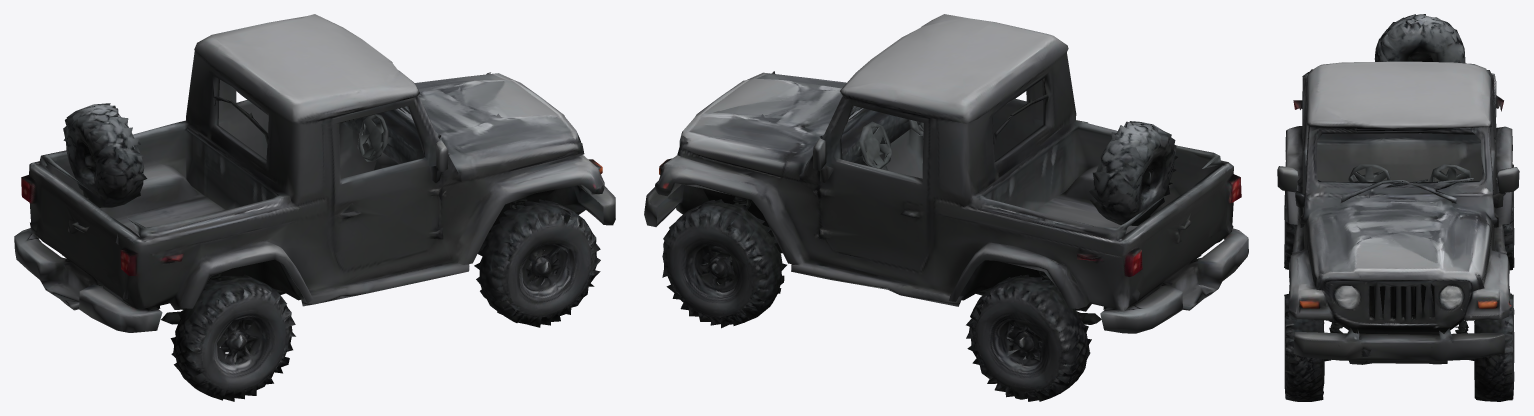
File: dxb_jeep.glb
The picture shows the model from 3 angles, left to right: view 1: azimuth 30°, elevation 25°; view 2: azimuth 150°, elevation 25°; view 3: azimuth 270°, elevation 25°; orthographic projection. The views are drawn at different scales.
Parts seen in each view (by area): view 1: tripo_node_33346f62-9f00-4ff7-b5b7-ad3555dcb669; view 2: tripo_node_33346f62-9f00-4ff7-b5b7-ad3555dcb669; view 3: tripo_node_33346f62-9f00-4ff7-b5b7-ad3555dcb669.
Boxes of the visible parts, x1,y1,x2,y2 form: tripo_node_33346f62-9f00-4ff7-b5b7-ad3555dcb669: [14, 14, 615, 401]; tripo_node_33346f62-9f00-4ff7-b5b7-ad3555dcb669: [644, 14, 1248, 401]; tripo_node_33346f62-9f00-4ff7-b5b7-ad3555dcb669: [1277, 14, 1519, 401].
Size of the model in its own units: 1 by 0.5054 by 0.4712.
1 material, 1 textured.
